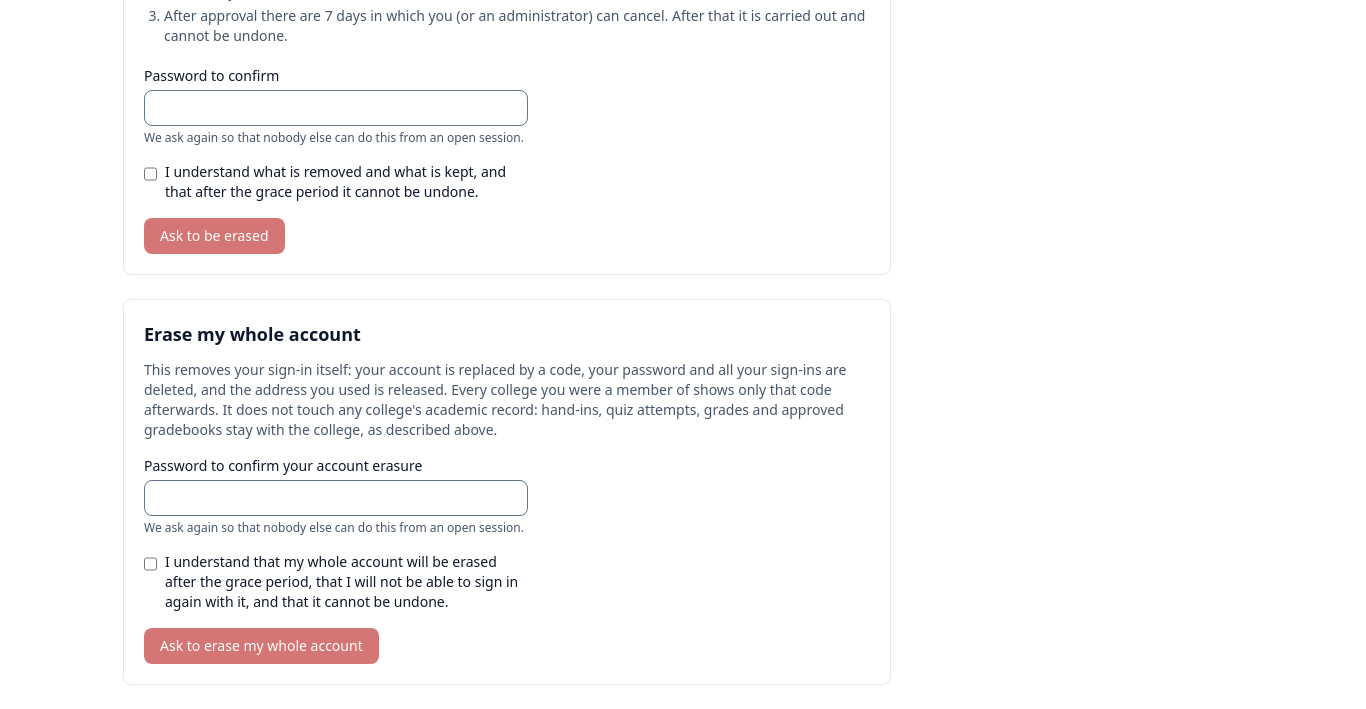
Erase my whole account (member) › the one college: needs the password and the confirmation, sends them, then shows the request waiting for the college
(page scrolled)
Expected: the button "Ask to erase my whole account" is disabled, top-left (144, 628), bottom-right (379, 664)
Type "secret-pass-1" into the password field labelled "Password to confirm your account erasure".
click(336, 498); type("secret-pass-1")  # box top-left (144, 480), bottom-right (528, 516)
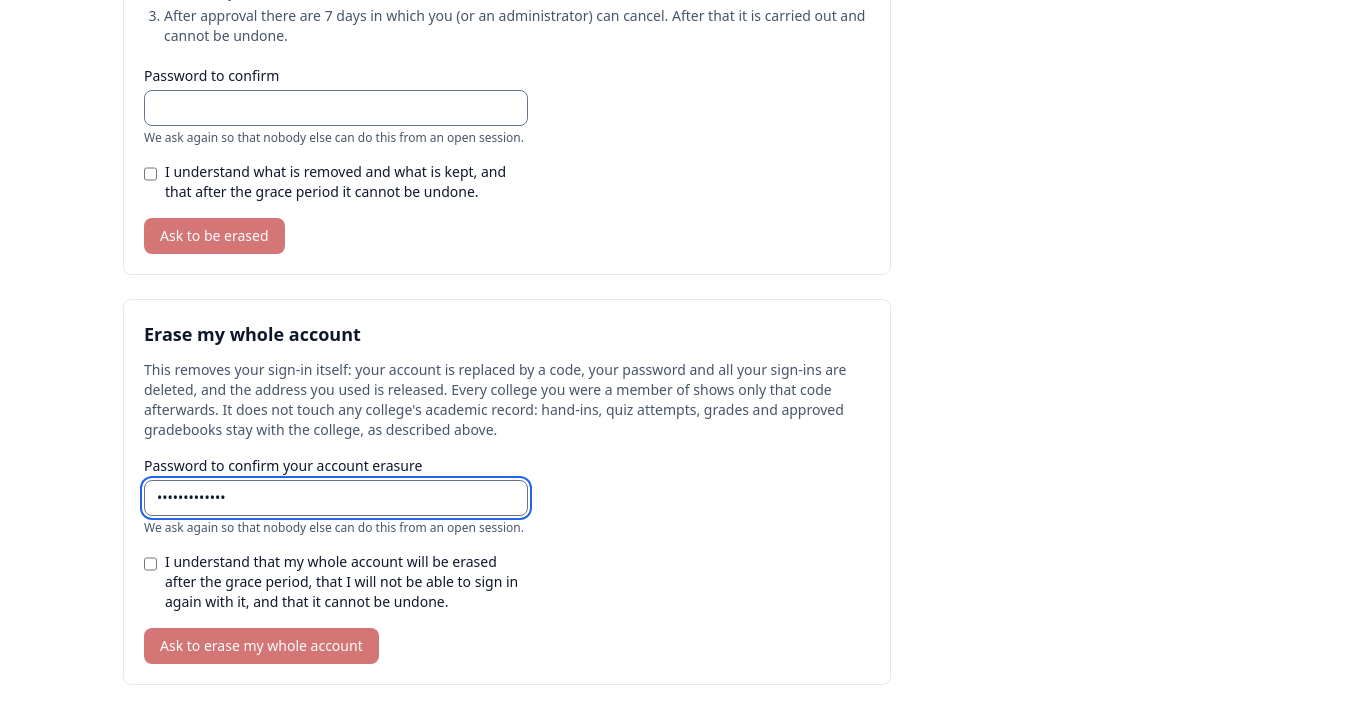
Expected: the button "Ask to erase my whole account" is disabled, top-left (144, 628), bottom-right (379, 664)
Click the checkbox labelled "I understand that my whole account will be erased".
click(150, 564)  # box top-left (144, 556), bottom-right (157, 572)
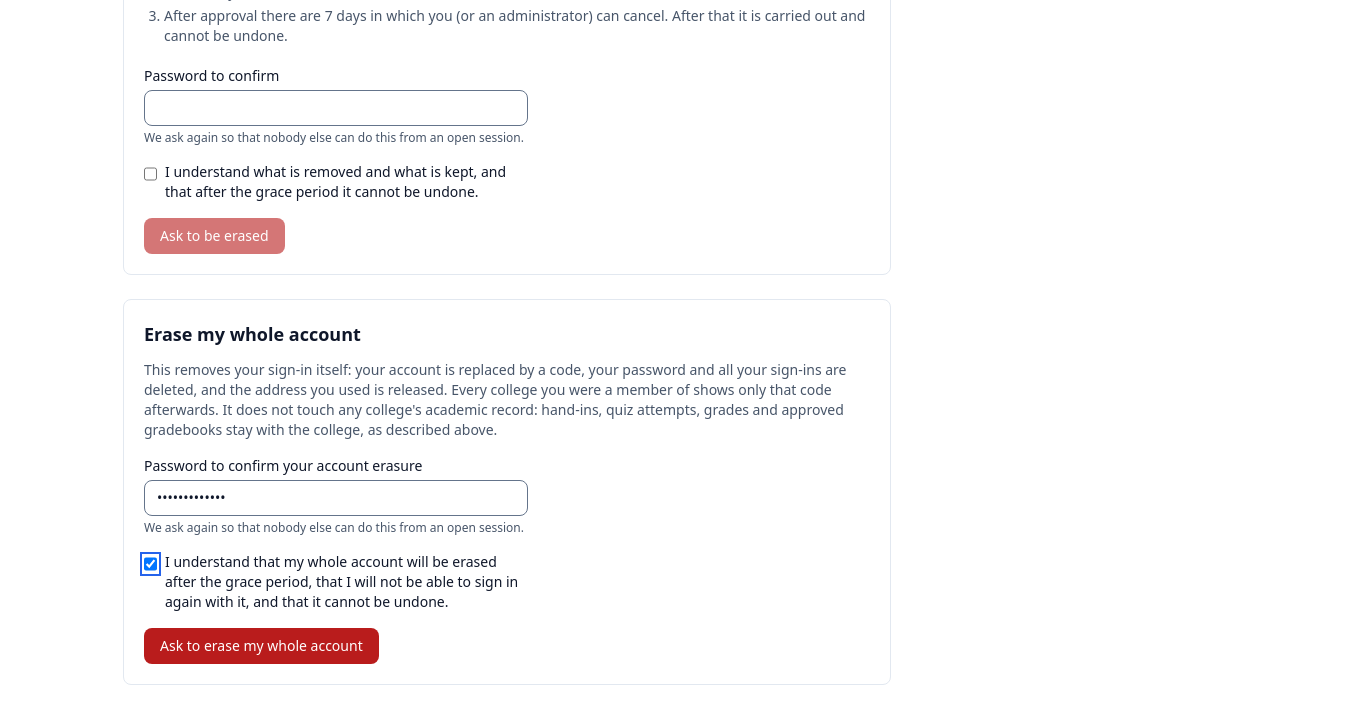
Click the button "Ask to erase my whole account".
click(261, 646)  # box top-left (144, 628), bottom-right (379, 664)
(page scrolled)
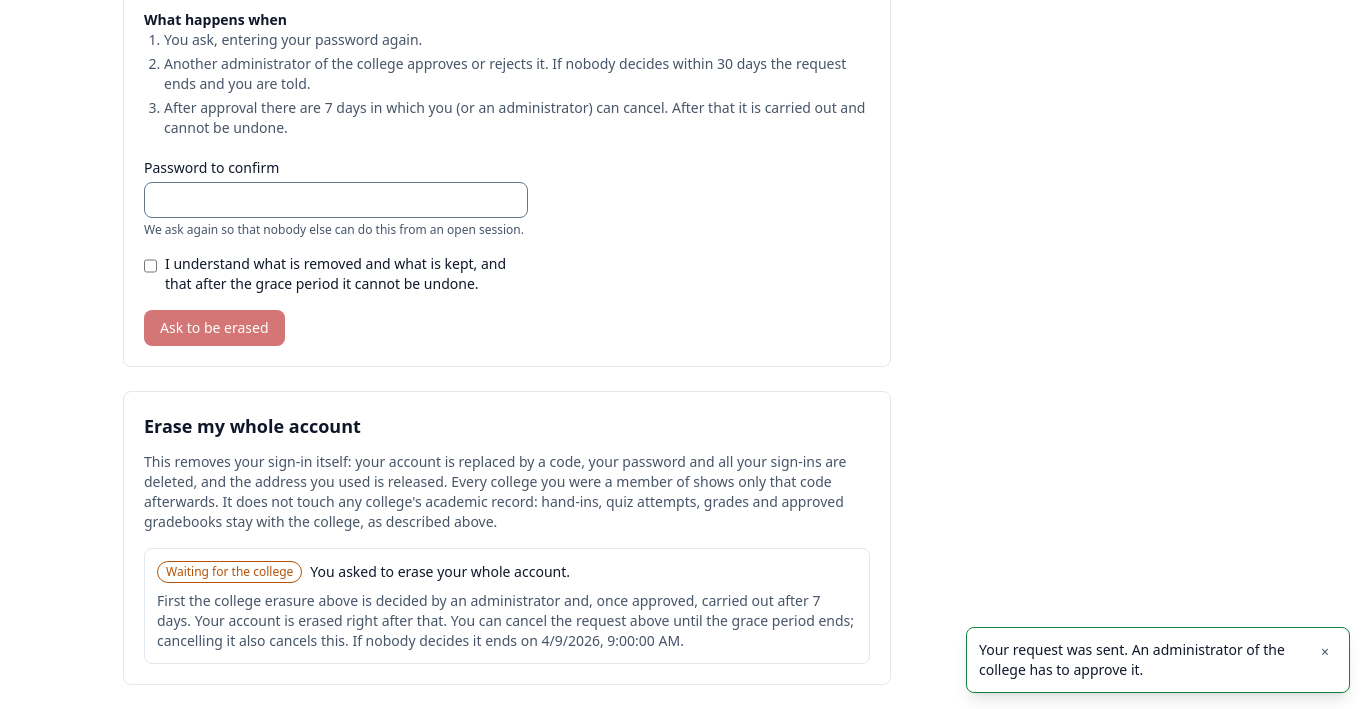
Expected: the text "You asked to erase your whole account." is shown, top-left (310, 562), bottom-right (570, 582)
Expected: the text "Waiting for the college" is shown, top-left (157, 561), bottom-right (302, 583)
Expected: the text "cancelling it also cancels this" is shown, top-left (157, 611), bottom-right (854, 650)
